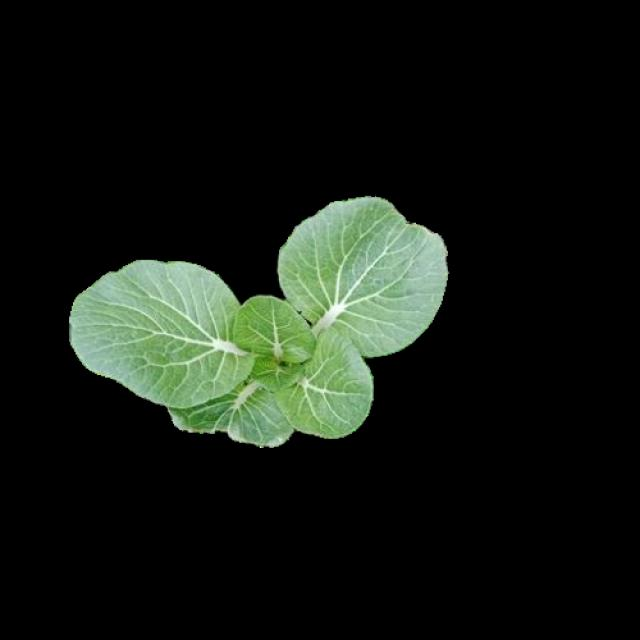healthy: (68, 194, 447, 446)
not-mature: (70, 197, 450, 448)
